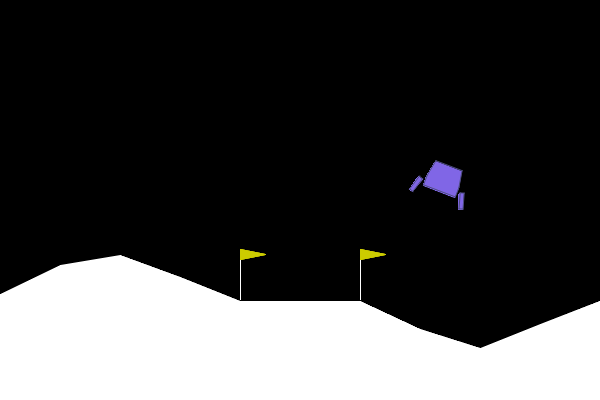lander: (407, 153, 477, 212)
